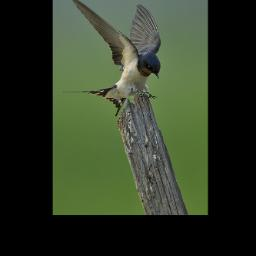Swallow: (62, 0, 162, 116)
